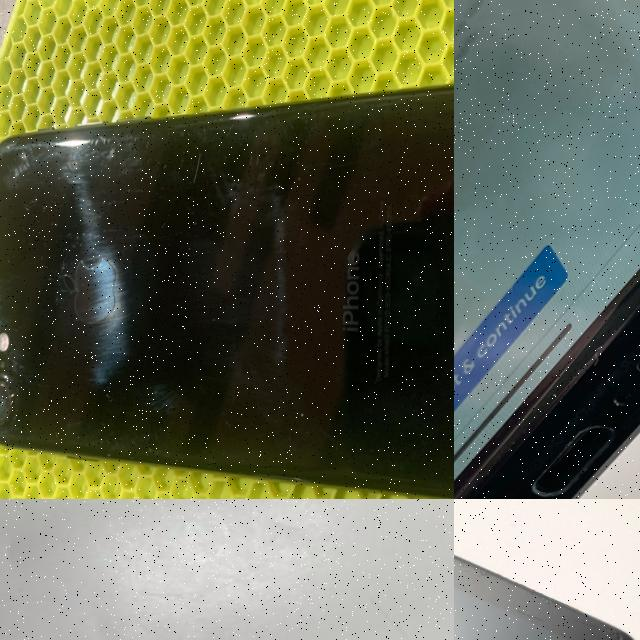Scratches: (55, 196, 132, 377)
